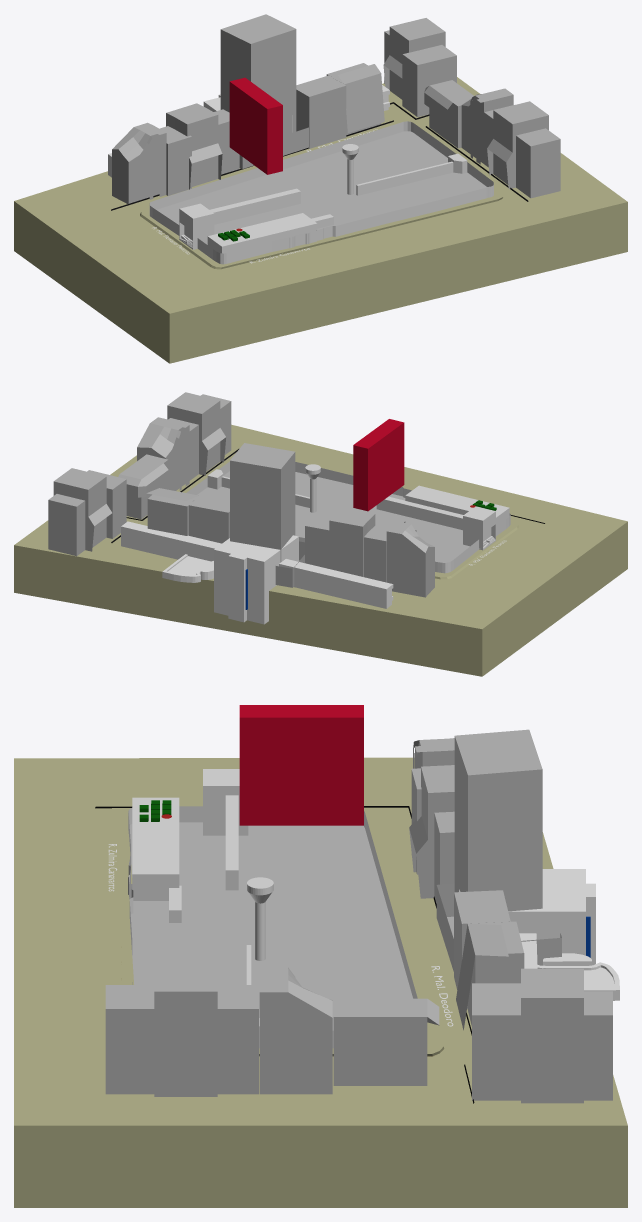
File: mapa geral 1.blend1.fbx
3 views of the same model, one above another, from view 1: azimuth 30°, elevation 25°; view 2: azimuth 150°, elevation 25°; view 3: azimuth 270°, elevation 25° (orthographic). The views are drawn at different scales.
Parts seen in each view (by area): view 1: rua, Cube.033; view 2: rua, Cube, Cube.033, Cube.001, Cube.013, Plane.002; view 3: rua, Cube.033, Cube.001, Plane.002, Cube.013.
Part boxes in pixels (bbox=[...]): rua: bbox=[14, 14, 627, 363]; Cube.033: bbox=[229, 77, 282, 174]; rua: bbox=[14, 392, 627, 676]; Cube: bbox=[121, 521, 393, 608]; Cube.033: bbox=[353, 419, 404, 511]; Cube.001: bbox=[214, 535, 298, 624]; Cube.013: bbox=[228, 553, 246, 622]; Plane.002: bbox=[162, 554, 213, 582]; rua: bbox=[14, 729, 627, 1207]; Cube.033: bbox=[239, 705, 363, 825]; Cube.001: bbox=[508, 869, 585, 955]; Plane.002: bbox=[537, 962, 619, 1000]; Cube.013: bbox=[543, 883, 595, 965].
Size of the model in its own units: 1461 by 513 by 1029.
